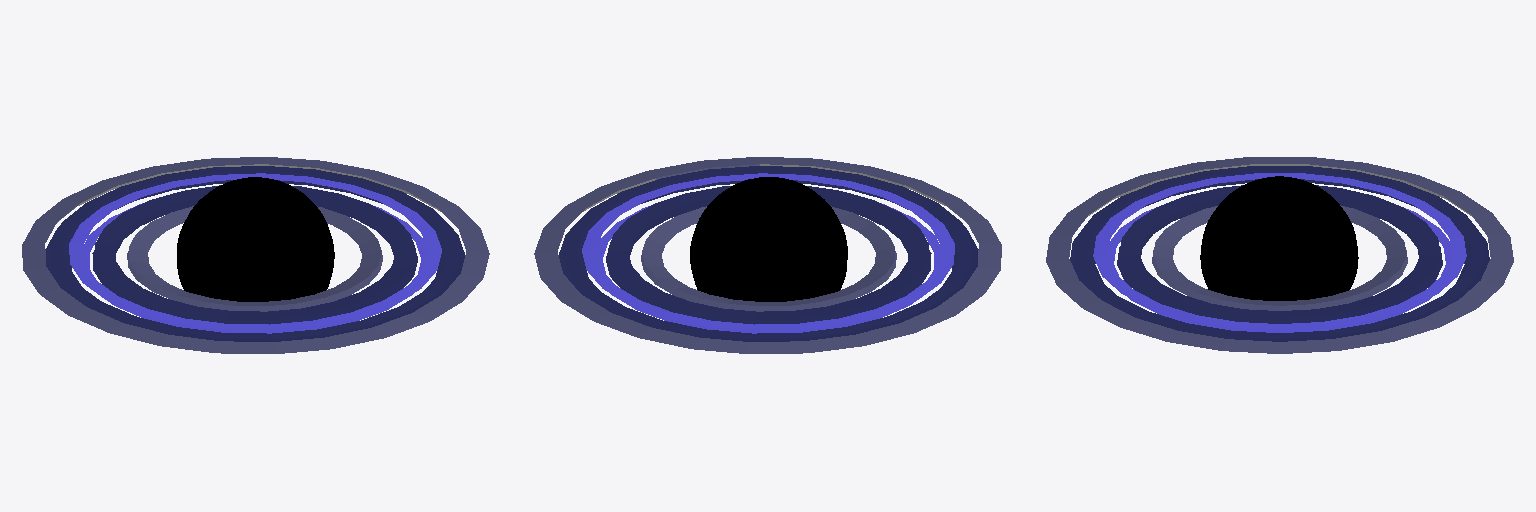
File: ring1.obj
3 renders of one model, left to right at view 1: azimuth 30°, elevation 25°; view 2: azimuth 150°, elevation 25°; view 3: azimuth 270°, elevation 25°, orthographic.
Visible parts, largest first — view 1: pTorus1, pSphere1; view 2: pTorus1, pSphere1; view 3: pTorus1, pSphere1.
Boxes of the visible parts, x1=… form: pTorus1: x1=22, y1=157, x2=489, y2=353; pSphere1: x1=177, y1=177, x2=334, y2=301; pTorus1: x1=534, y1=157, x2=1001, y2=353; pSphere1: x1=690, y1=177, x2=847, y2=301; pTorus1: x1=1046, y1=157, x2=1513, y2=353; pSphere1: x1=1200, y1=176, x2=1358, y2=300.
Size of the model in its own units: 50.97 by 17.29 by 51.07.